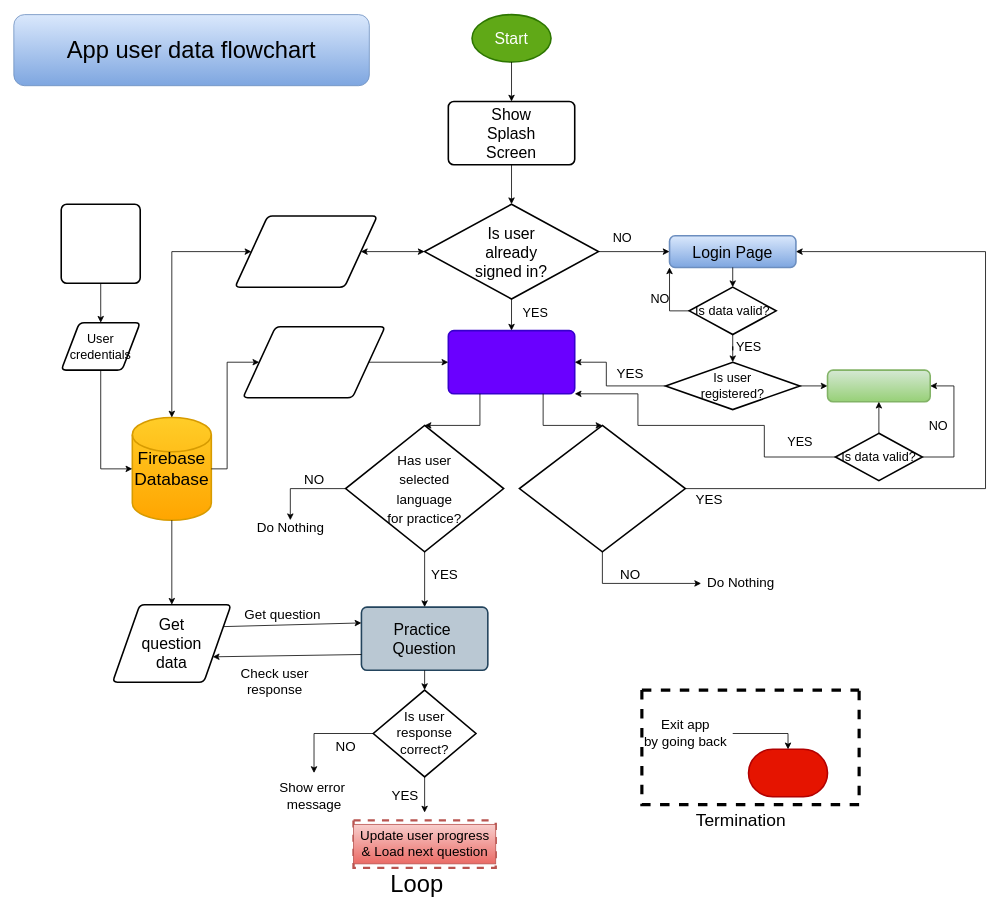
The diagram is 1006 pixels wide and 912 high, and some of its shapes have lost their labels. Each missing label, with the centre of its shape:
"Dashboard" goes at (x=511, y=361).
"Data (Token Verification)" goes at (x=306, y=251).
"End" goes at (x=787, y=772).
"Has user clicked Logout?" goes at (x=602, y=488).
"Signup Page" goes at (x=878, y=385).
"Update user sign in, sign out, sign up data" goes at (x=100, y=243).
"User Progress Data" goes at (x=314, y=361).
